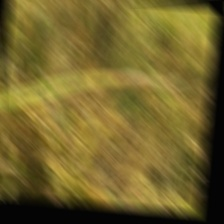Leaf_Blast: (41, 57, 189, 105)
